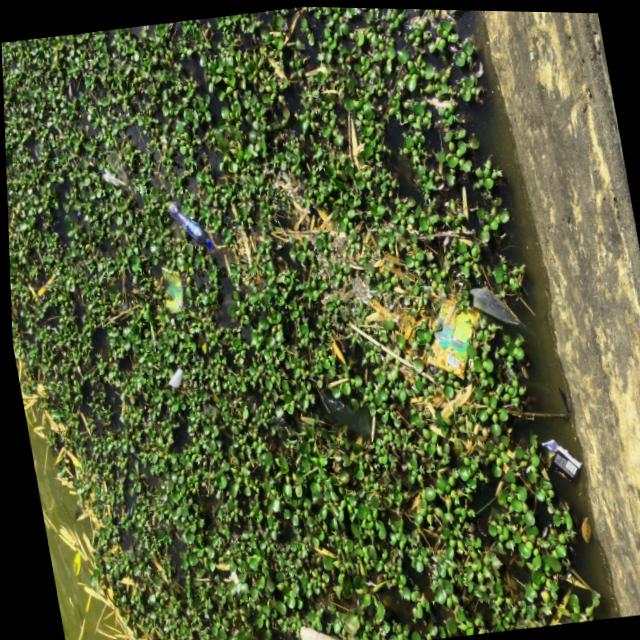Cardboard: (152, 258, 190, 318)
Plastic: (404, 271, 490, 385), (161, 189, 212, 255), (528, 426, 583, 487)
